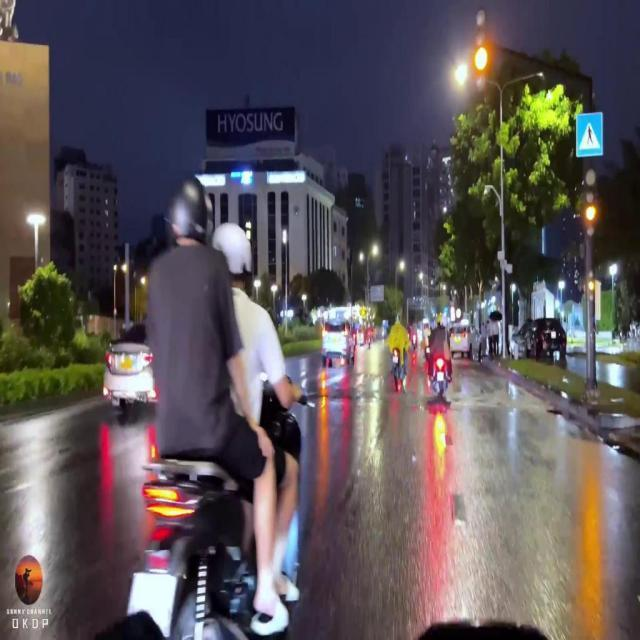225-chu-y-tre-em: (574, 112, 604, 156)
